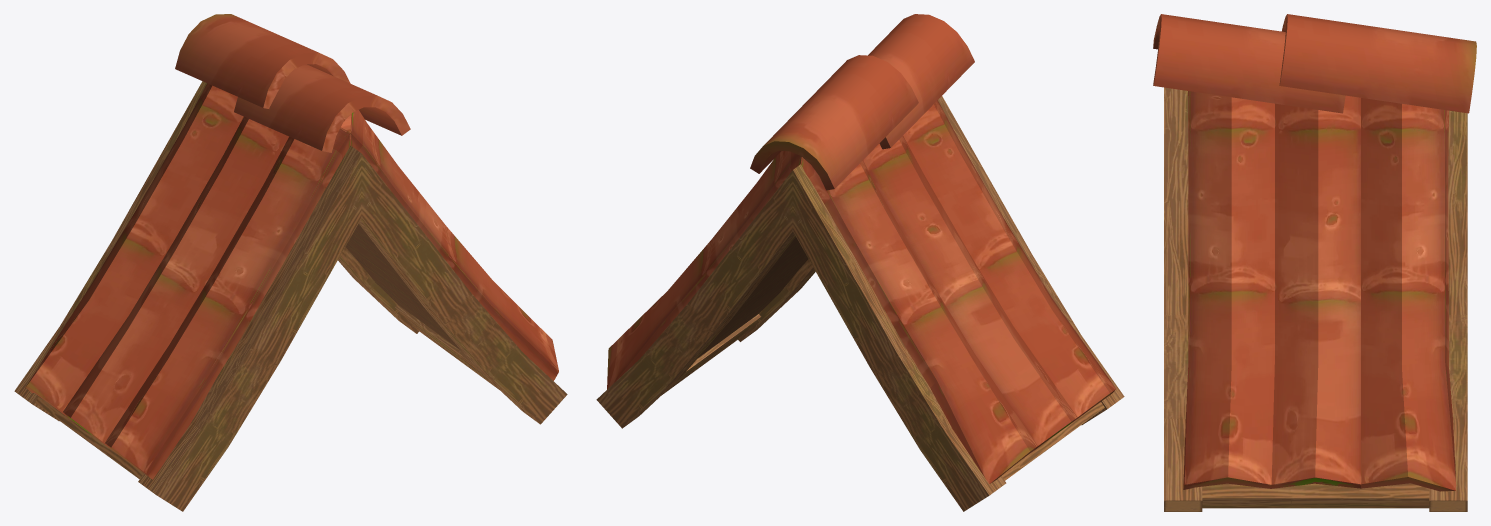
The model's file is Roof_RoundTile_2x1.glb.
3 renders of one model, left to right at view 1: azimuth 30°, elevation 25°; view 2: azimuth 150°, elevation 25°; view 3: azimuth 270°, elevation 25°, orthographic. The views are drawn at different scales.
Parts seen in each view (by area): view 1: Roof_RoundTile_2x1; view 2: Roof_RoundTile_2x1; view 3: Roof_RoundTile_2x1.
Part boxes in pixels (<box>): Roof_RoundTile_2x1: <box>14,14,567,511</box>; Roof_RoundTile_2x1: <box>596,14,1124,511</box>; Roof_RoundTile_2x1: <box>1153,14,1476,511</box>.
Bounding box in the file's own units: 3.3 × 2.66 × 1.95.
Materials: 2 (2 with a texture image).
